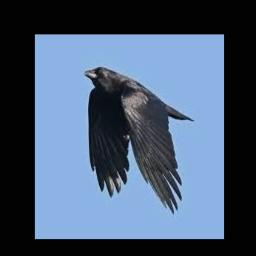Crow: (84, 65, 195, 214)
